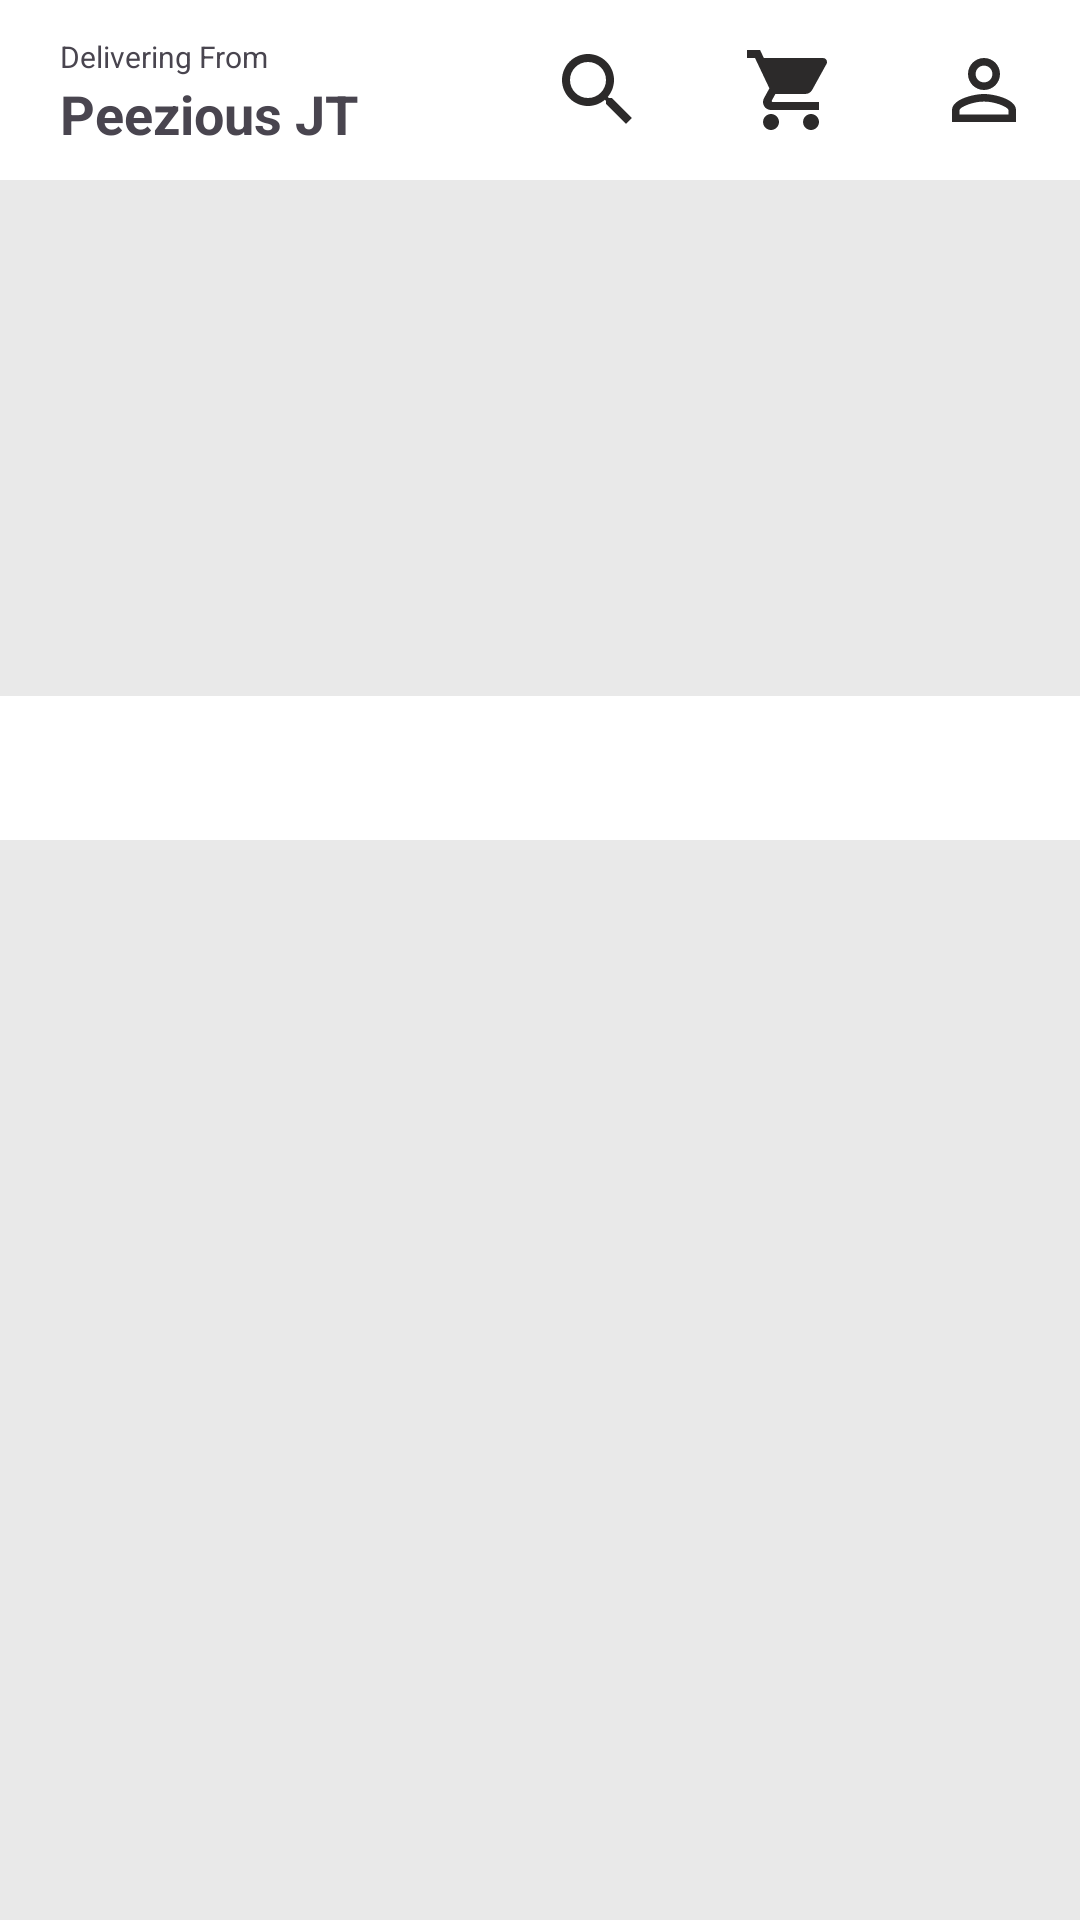

Icon click points for this 1080×1920 phone screenshot, format (x=x, y=y):
person: (x=984, y=90)
search: (x=597, y=89)
shopping cart: (x=787, y=90)
